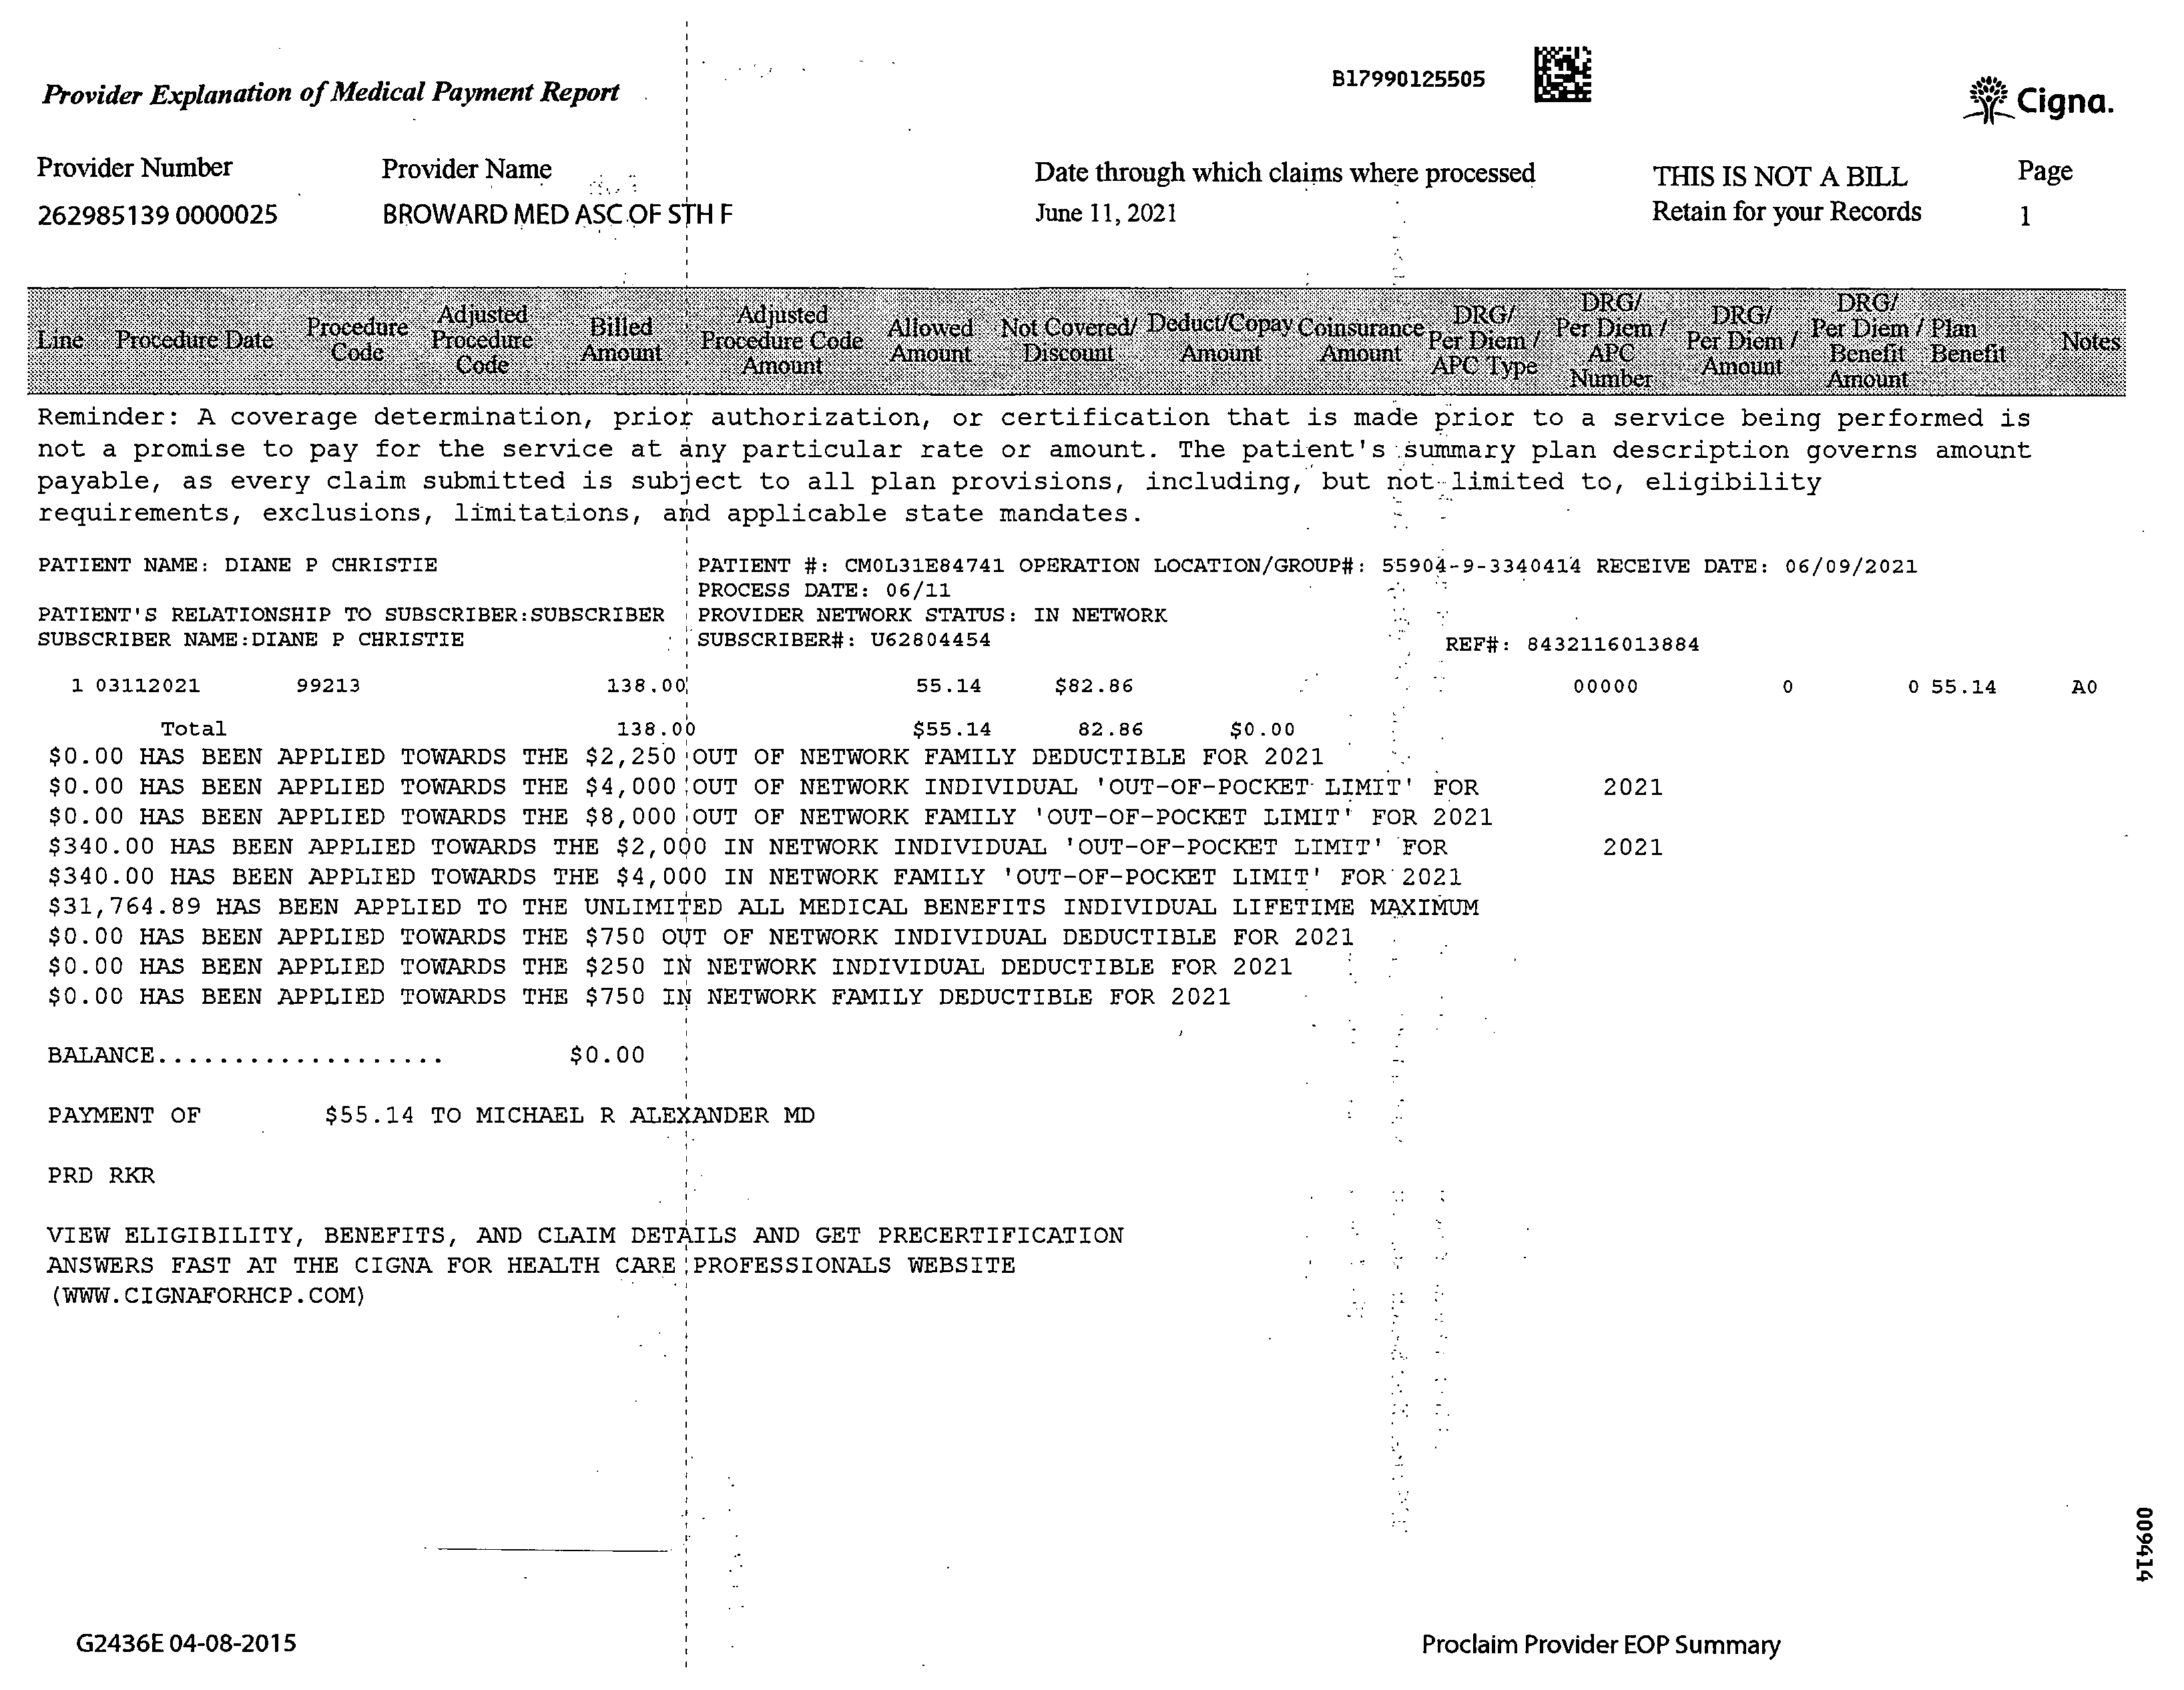data: (27, 140, 760, 257)
